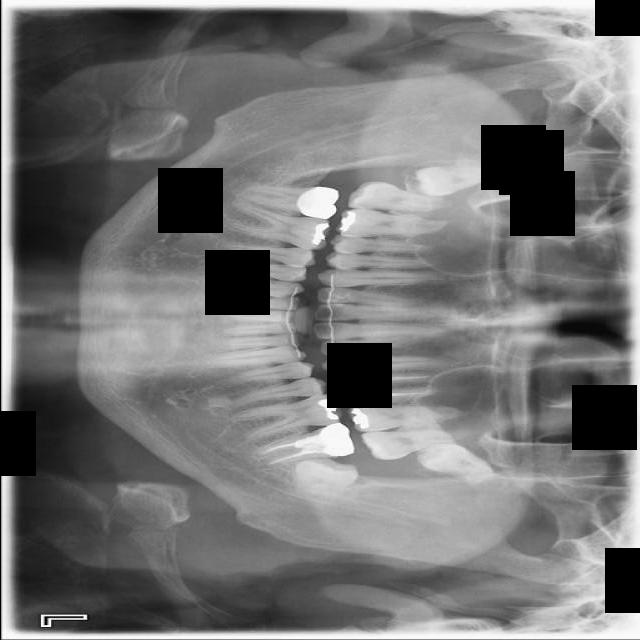3M ESPE Implant: (412, 155, 497, 200)
52: (331, 366, 379, 410), (347, 405, 371, 432), (336, 209, 358, 234), (318, 397, 339, 422), (311, 220, 329, 247)
73: (28, 613, 36, 623)
BioHorizons Implant: (360, 429, 454, 461)
BioLife Implant: (413, 431, 498, 493)
Biomet 3i Implant: (292, 454, 360, 503)
Blue Sky Bio Implant: (252, 420, 356, 477)
Caries: (348, 181, 453, 212)
Implant: (239, 176, 340, 221)
